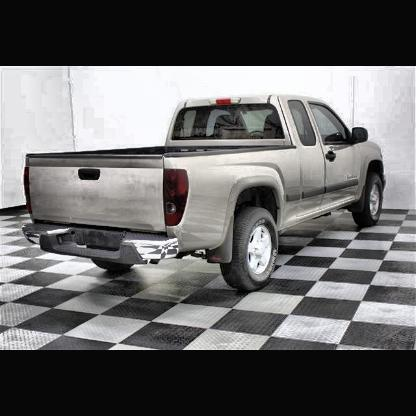GMC Canyon Extended Cab 2012: (22, 94, 389, 293)
